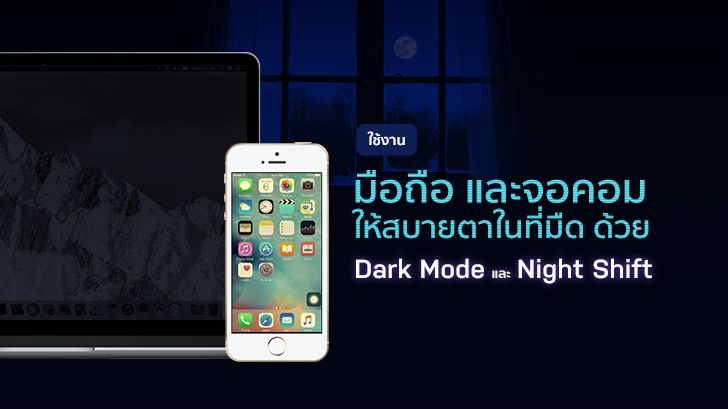Phone: (221, 140, 333, 366)
